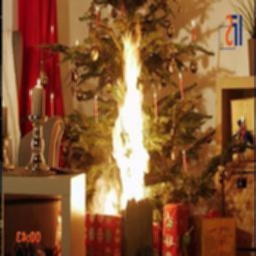fire: (94, 28, 151, 208)
